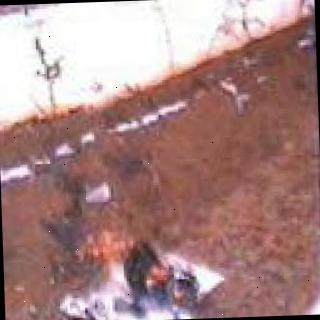fire: (68, 222, 209, 314)
